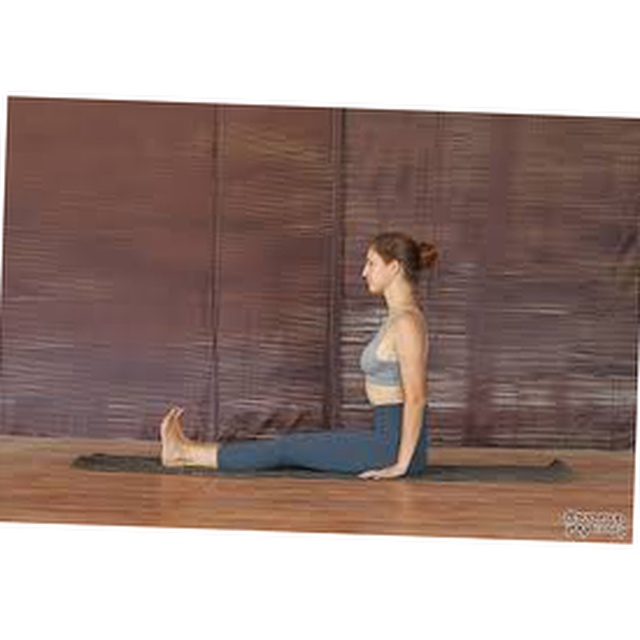Staff_Pose: (159, 232, 439, 483)
